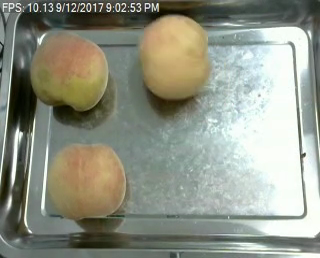Peach: (30, 29, 109, 111), (140, 14, 210, 101), (49, 143, 126, 221)
